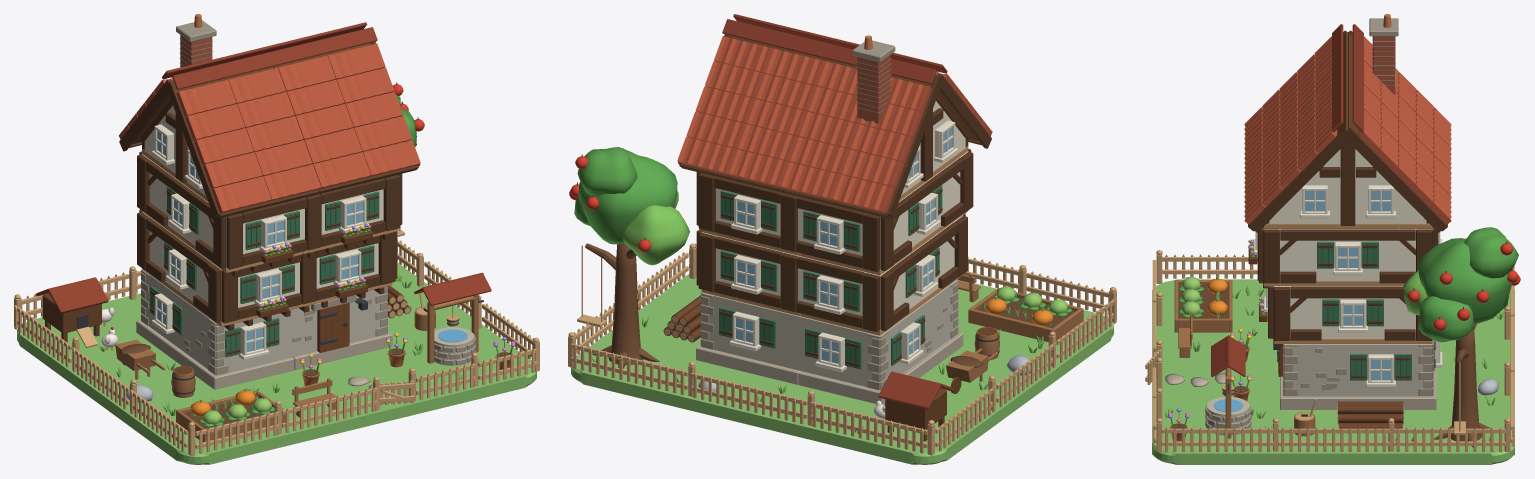
Rendered from house.glb.
3 views of the same model, side by side, from view 1: azimuth 30°, elevation 25°; view 2: azimuth 150°, elevation 25°; view 3: azimuth 270°, elevation 25° (orthographic). The views are drawn at different scales.
Parts seen in each view (by area): view 1: ground, ridge, wall0_front, plinth_left, wall0_left, fence, fence2, roof_boards_fronta-timber, fence8, coop_roof, tiles_fronta00, fence10 (+74 smaller); view 2: ground, wall0_back, ridge, crown, trunk, fence5, crown2, fence7, fence6, wall0_left, crown5, plinth_left (+77 smaller); view 3: ground, wall0_right, crown, gable_right, wall2_right, wall1_right, ridge, fence9, fence11, trunk, fence13, crown5 (+82 smaller).
Part boxes in pixels (x1,y1,x2,y2): ground: (17, 262, 536, 464); ridge: (162, 22, 377, 89); wall0_front: (213, 289, 387, 374); plinth_left: (136, 320, 294, 389); wall0_left: (145, 271, 213, 369); fence: (188, 400, 281, 455); fence2: (282, 376, 379, 432); roof_boards_fronta-timber: (168, 81, 319, 218); fence8: (130, 379, 195, 455); coop_roof: (36, 277, 108, 313); tiles_fronta00: (211, 176, 271, 213); fence10: (72, 337, 136, 412); ground: (571, 274, 1113, 464); wall0_back: (702, 292, 882, 390); ridge: (722, 14, 947, 84); crown: (578, 149, 677, 244); trunk: (585, 243, 643, 365); fence5: (807, 390, 934, 455); crown2: (621, 205, 689, 265); fence7: (568, 332, 695, 396); fence6: (688, 361, 814, 425); wall0_left: (883, 282, 954, 378); crown5: (577, 147, 637, 196); plinth_left: (798, 332, 963, 404); ground: (1152, 279, 1514, 464); wall0_right: (1290, 344, 1426, 396); crown: (1418, 238, 1513, 324); gable_right: (1269, 149, 1426, 223); wall2_right: (1269, 229, 1426, 281); wall1_right: (1279, 286, 1415, 338); ridge: (1332, 24, 1363, 132); fence9: (1156, 418, 1278, 451); fence11: (1272, 418, 1394, 451); trunk: (1451, 324, 1481, 441); fence13: (1388, 422, 1510, 451); crown5: (1464, 227, 1518, 278).
Size of the model in its own units: 10.6 by 9.02 by 9.09.
